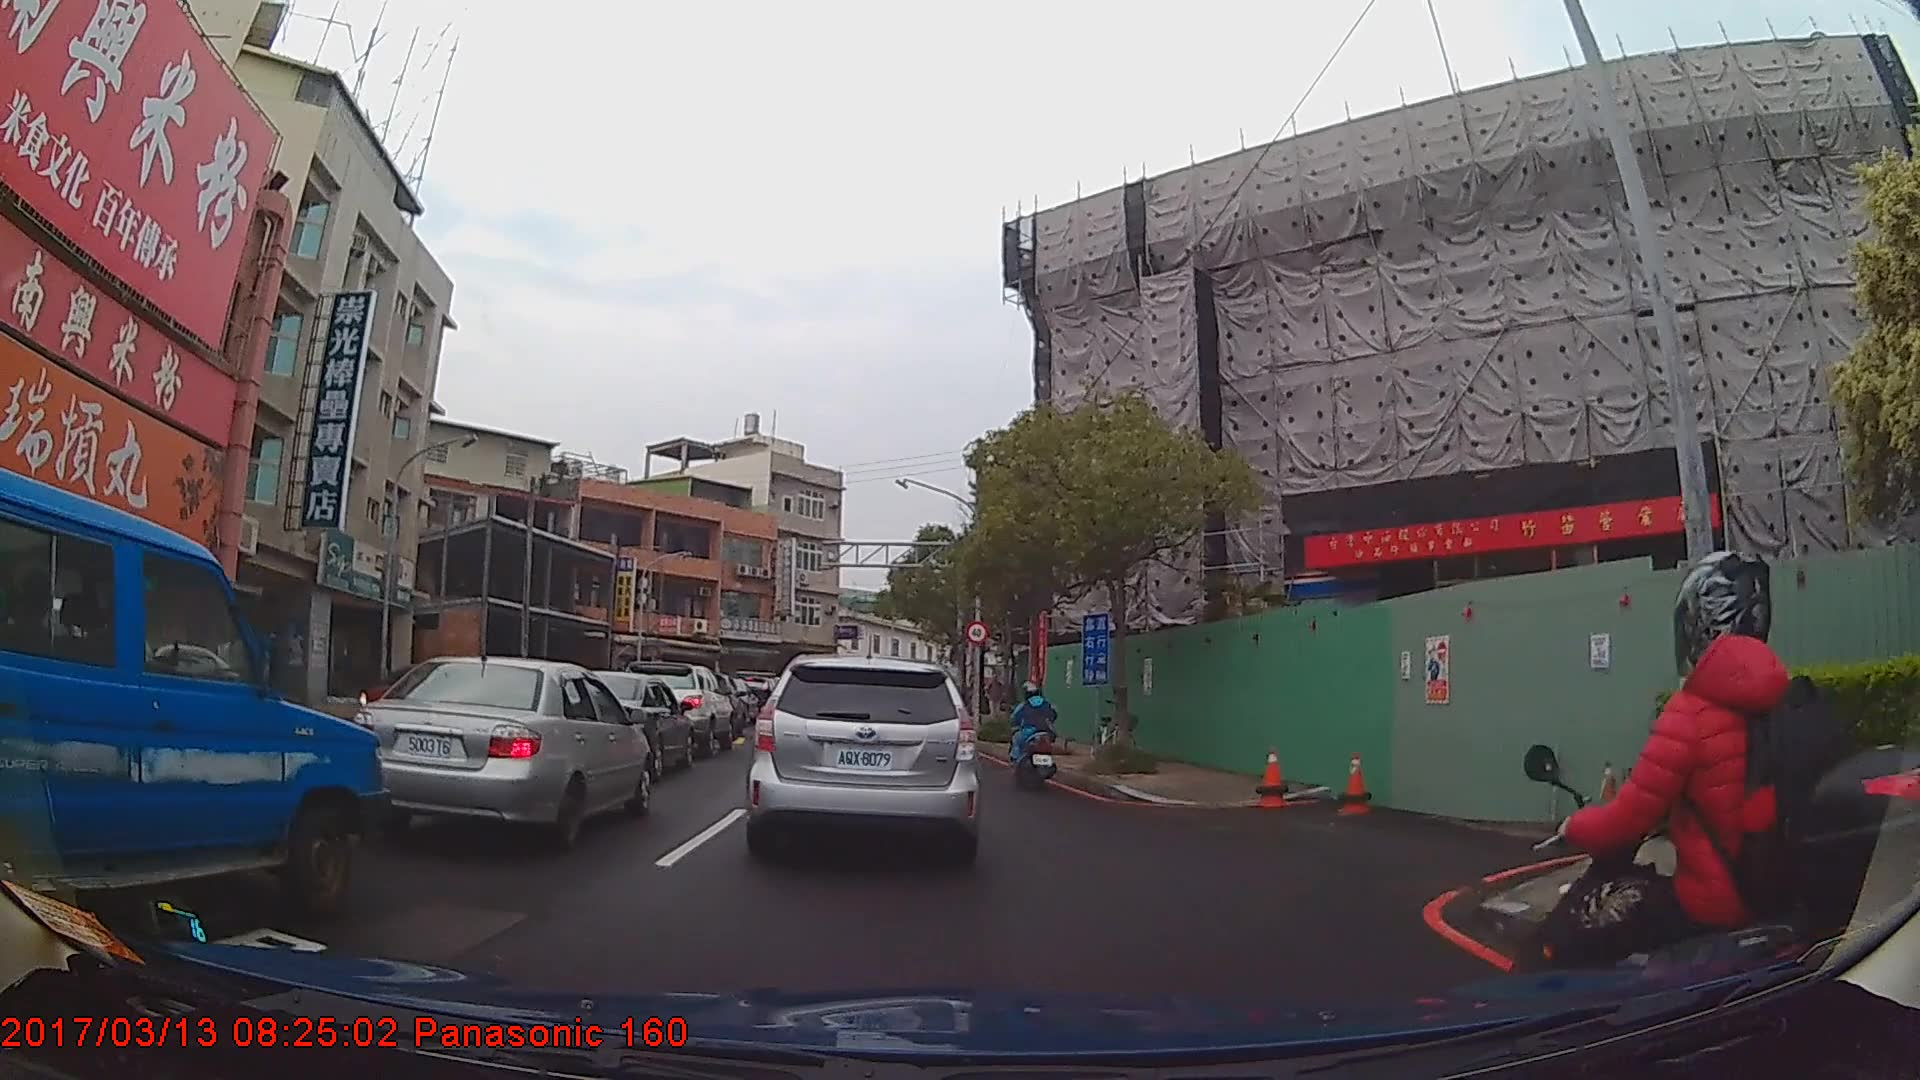rider: (1511, 541, 1915, 1080), (1009, 685, 1062, 793)
vehicle: (0, 466, 377, 952), (341, 654, 654, 854), (746, 652, 982, 859), (545, 668, 694, 776), (618, 657, 732, 758)
